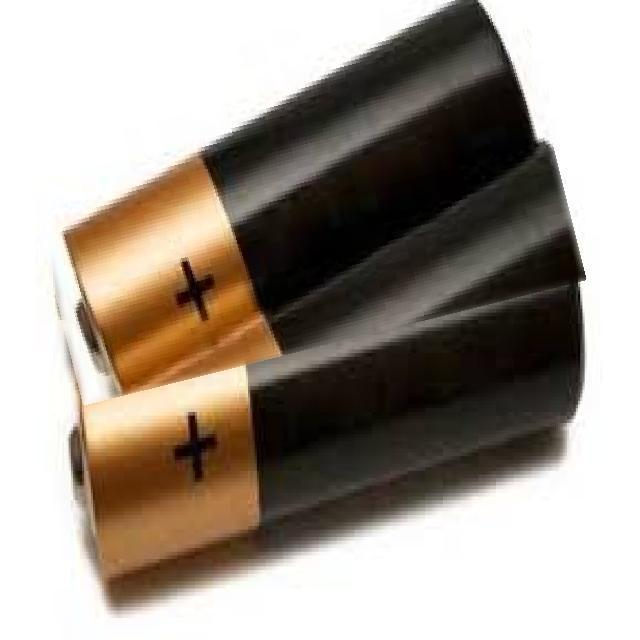Battery: (66, 0, 544, 392), (52, 273, 588, 583)
